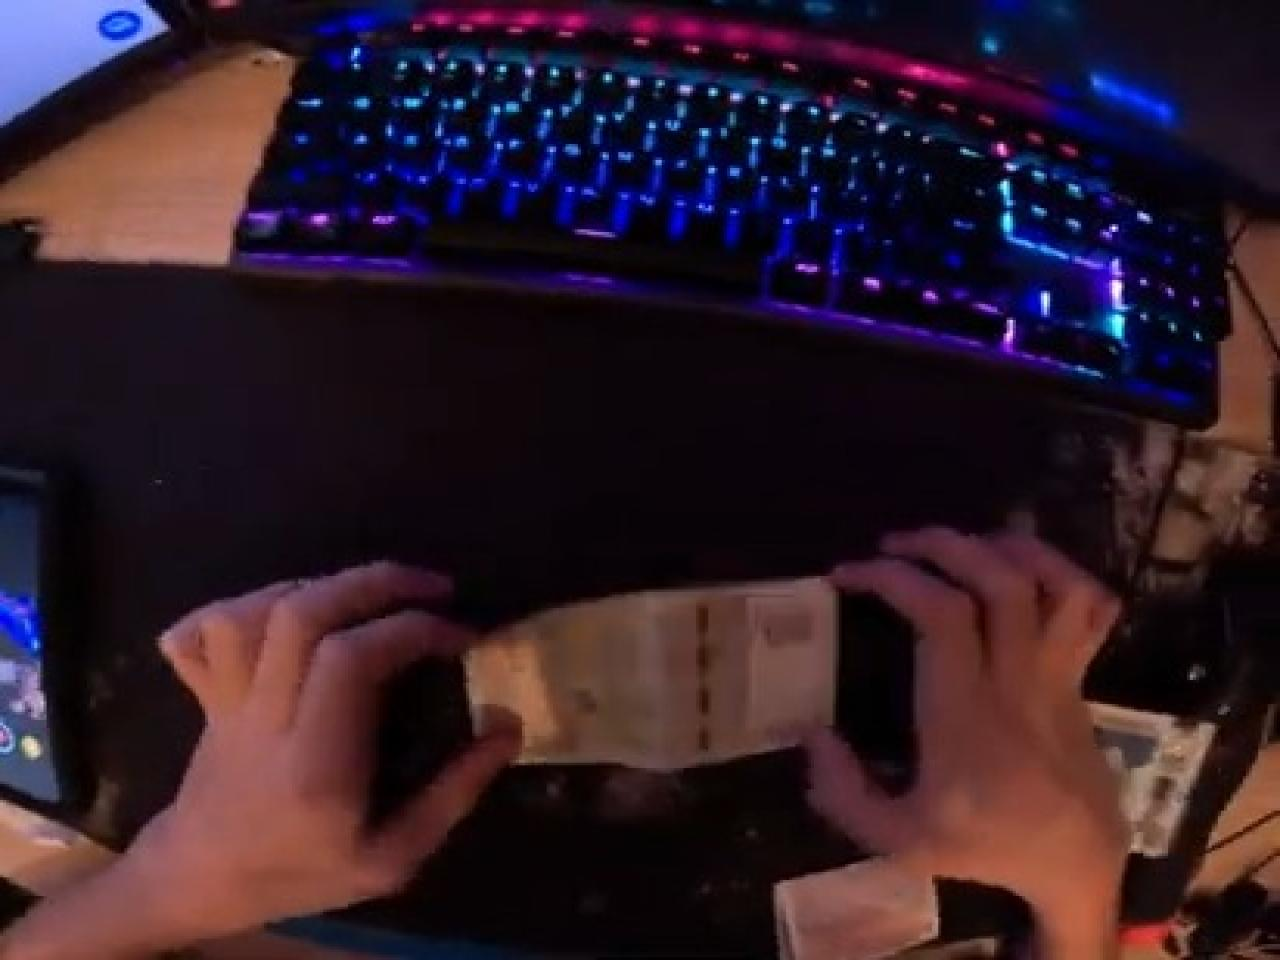50leva: (463, 576, 842, 773)
